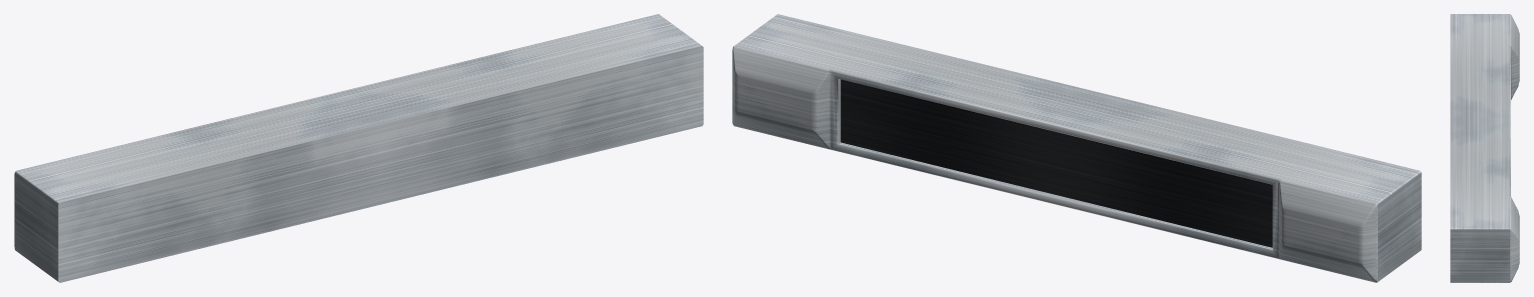
File: timermesh.fbx
3 renders of one model, left to right at view 1: azimuth 30°, elevation 25°; view 2: azimuth 150°, elevation 25°; view 3: azimuth 270°, elevation 25°, orthographic. The views are drawn at different scales.
Visible parts, largest first — view 1: racetimermesh; view 2: racetimermesh; view 3: racetimermesh.
Part boxes in pixels (left/top/right/bottom): racetimermesh: left=14, top=14, right=703, bottom=282; racetimermesh: left=732, top=14, right=1421, bottom=282; racetimermesh: left=1450, top=14, right=1519, bottom=282.
Bounding box in the file's own units: 0.1626 × 0.0193 × 0.0221.
